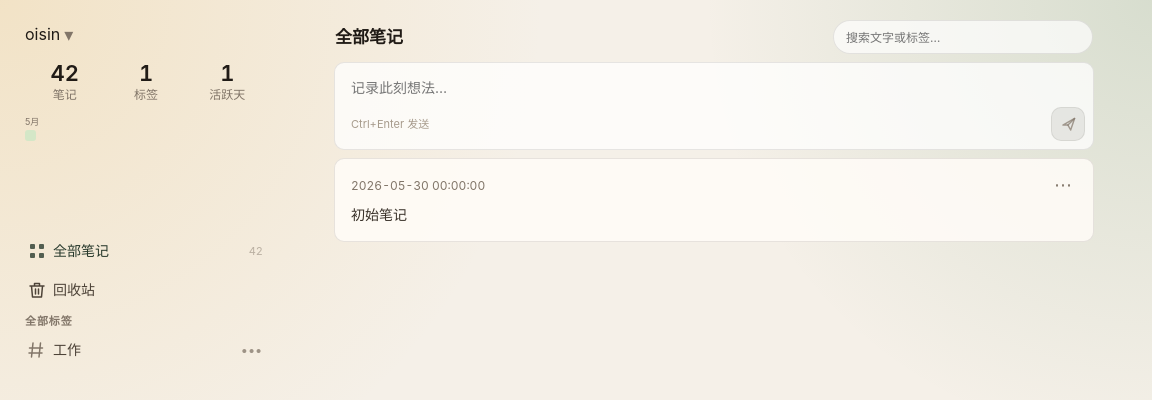
Test case: App › 搜索笔记时请求后端 search 参数
Expected: the text "初始笔记" is shown, [351,206,407,223]
Type "会议" into the search field named "搜索笔记" at (963,37), box [833,20,1093,54]
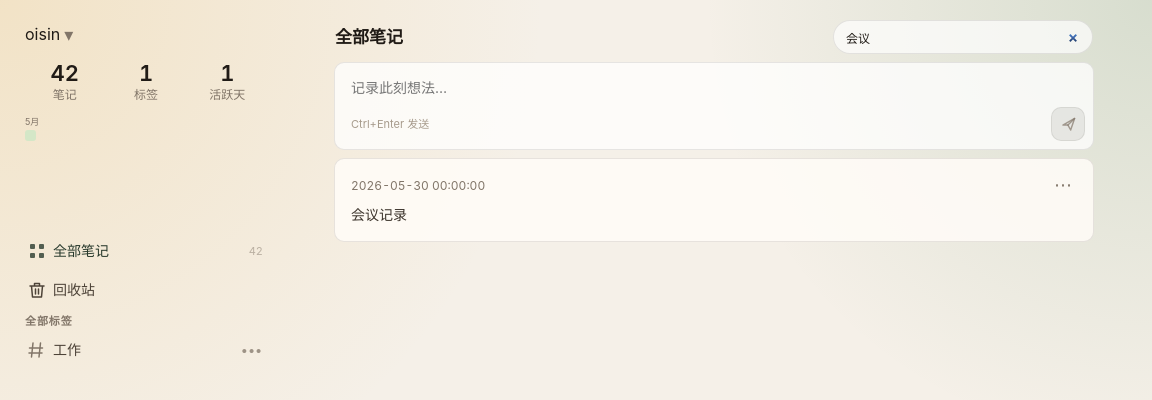
Now the text "会议记录" is shown, box [351,206,407,223]
